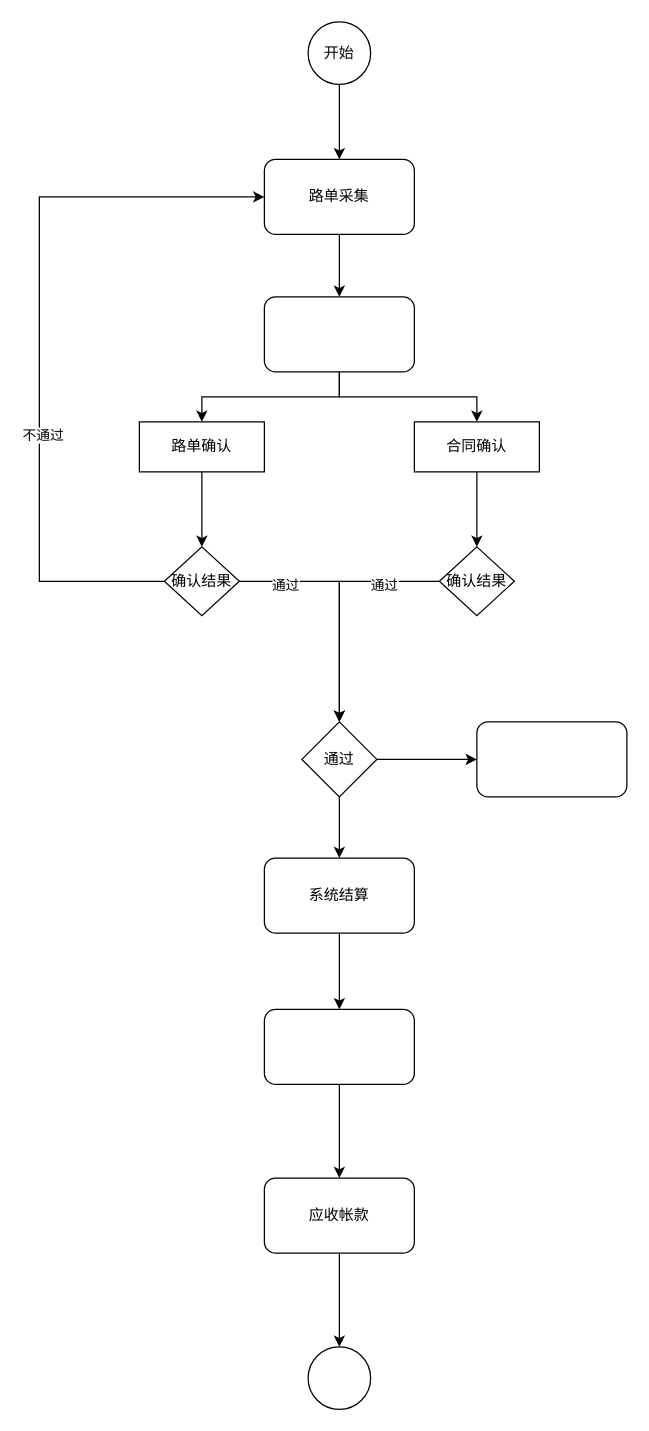
Some shapes in this 649 by 1431 pixel diagram are drawn without their labels. Here are the shapes that lost their labels. From the top down, the centre of each, then its label:
At [338,334]: "客户账单确认".
At [551,759]: "数据入业务四期系统".
At [338,1046]: "开票".
At [339,1377]: "结束".
